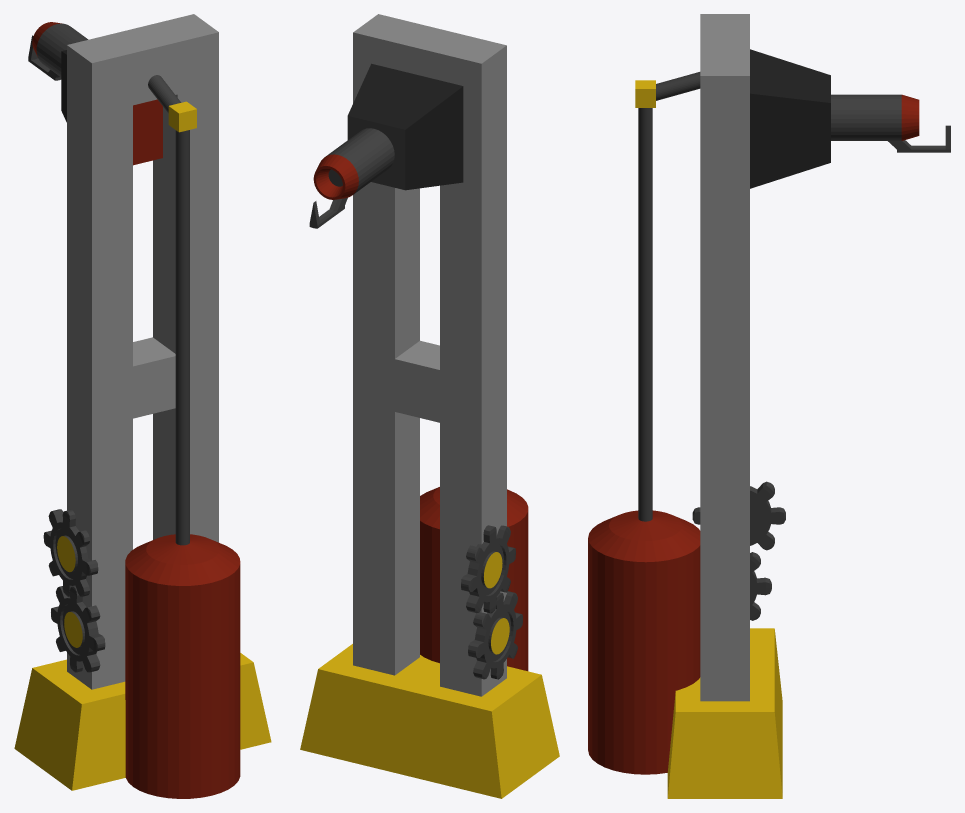
Rendered from FlametrowherStand.fbx.
The picture shows the model from 3 angles, left to right: view 1: azimuth 30°, elevation 25°; view 2: azimuth 150°, elevation 25°; view 3: azimuth 270°, elevation 25°; orthographic projection.
Visible parts, largest first — view 1: Cube, Cilindro, Cubo, Cilindro.001, Cilindro.002; view 2: Cube, Cubo, Cilindro, Cilindro.002, Cilindro.001; view 3: Cube, Cilindro, Cubo, Cilindro.002, Cilindro.001.
Part boxes in pixels (x1,y1,x2,y2): Cube: (14,14,271,790); Cilindro: (125,75,240,798); Cubo: (28,22,162,165); Cilindro.001: (51,586,105,672); Cilindro.002: (43,509,98,596); Cube: (300,14,559,798); Cubo: (309,63,463,228); Cilindro: (420,487,528,671); Cilindro.002: (461,525,515,613); Cilindro.001: (468,591,522,679); Cube: (667,14,782,798); Cilindro: (588,72,700,774); Cubo: (750,49,950,188); Cilindro.002: (692,481,785,550); Cilindro.001: (750,552,771,620).
Size of the model in its own units: 400 by 1354 by 631.
1 material, 1 textured.
